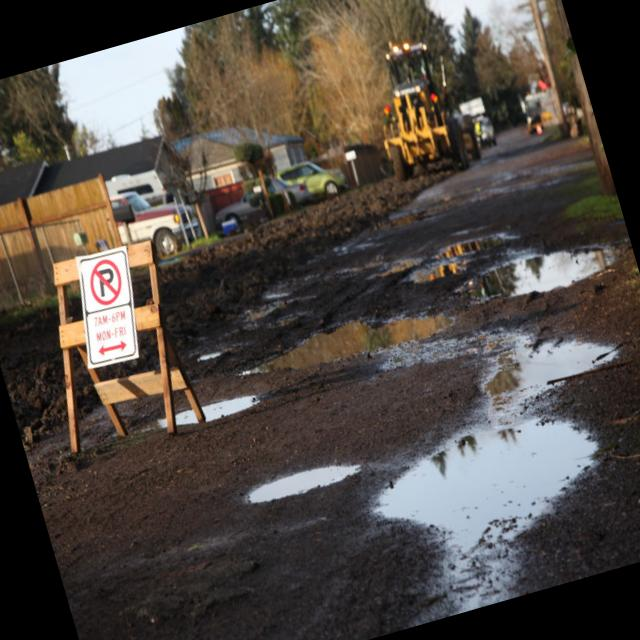Potholes: (323, 300, 640, 588), (402, 190, 620, 337), (246, 288, 454, 391), (145, 373, 279, 457), (233, 450, 366, 520)
